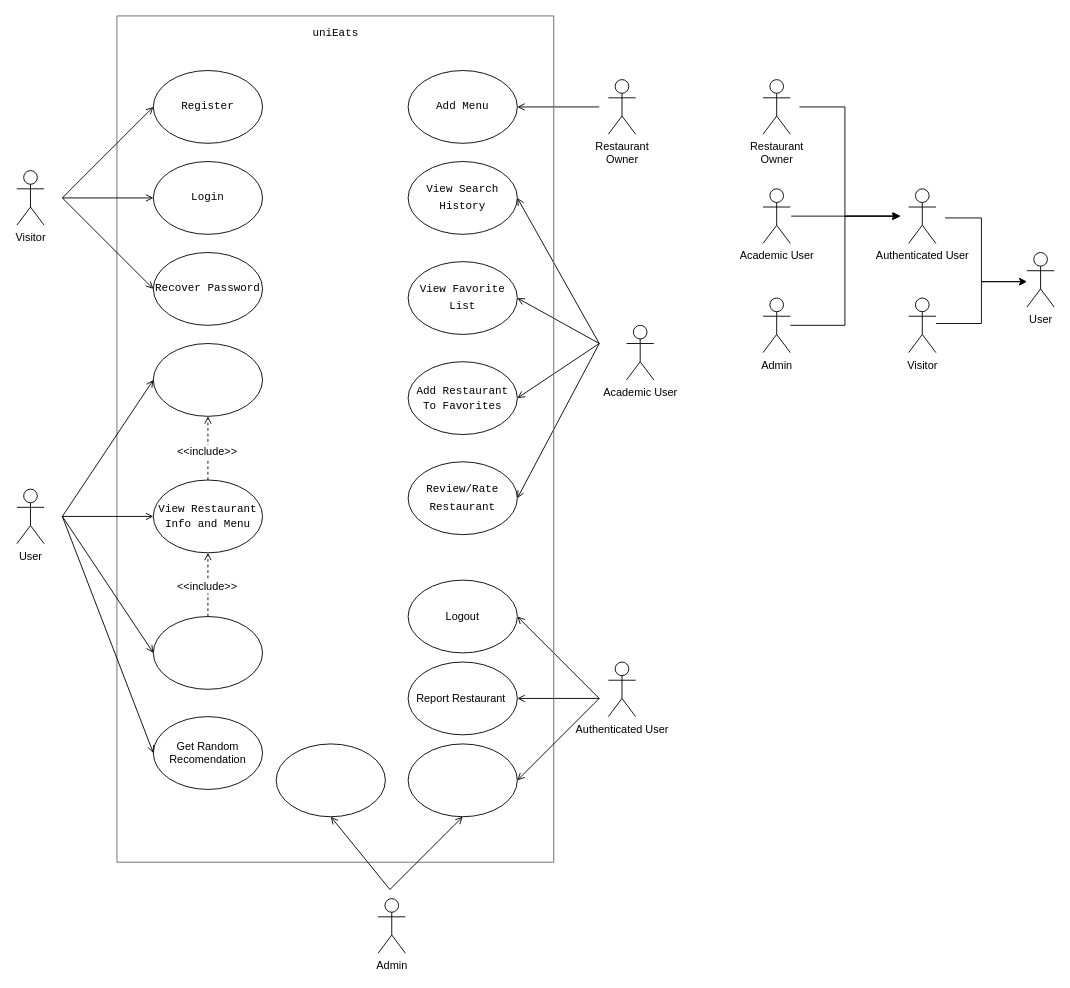
Some shapes in this 1070 by 988 pixel diagram are drawn without their labels. Here are the shapes that lost their labels. From the top down, the centre of each, then its label:
[207,379]: Search
[207,652]: Get Path To Restaurant
[330,780]: Block/Unblock
[462,780]: Delete Account
